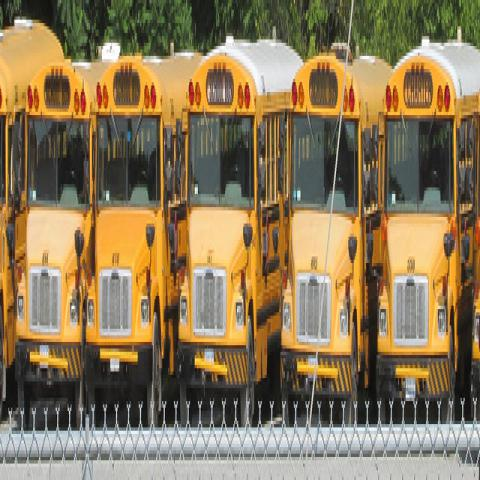bus: (174, 32, 304, 431), (85, 49, 204, 425), (280, 51, 396, 426), (375, 39, 479, 428), (13, 53, 122, 419), (0, 15, 64, 424)
